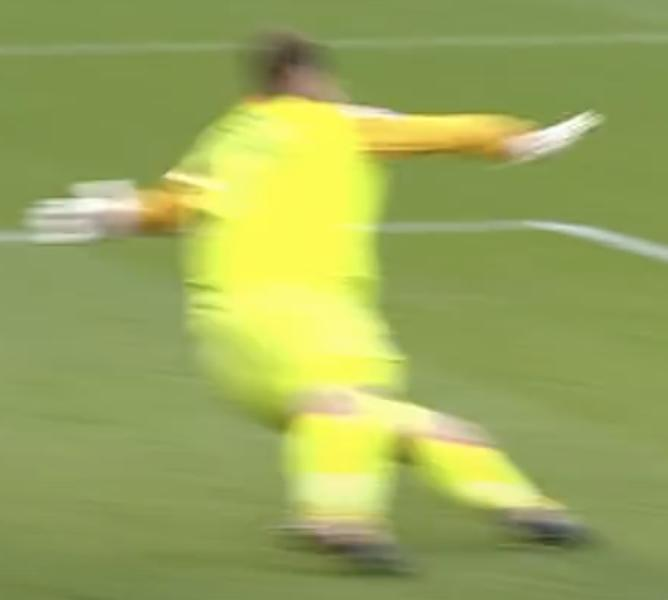goalkeeper: (23, 26, 638, 578)
